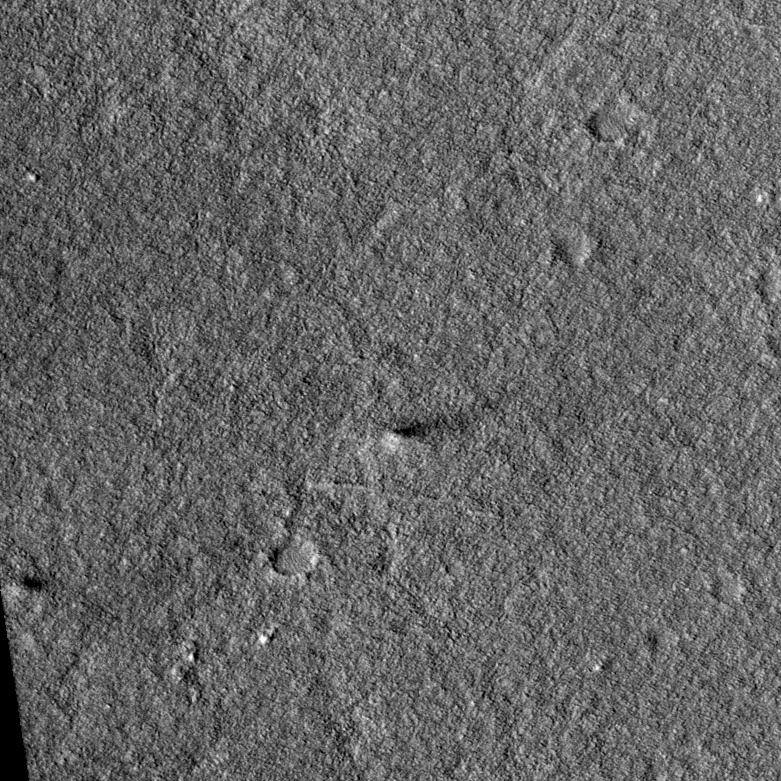dust_devil: (376, 399, 496, 456)
